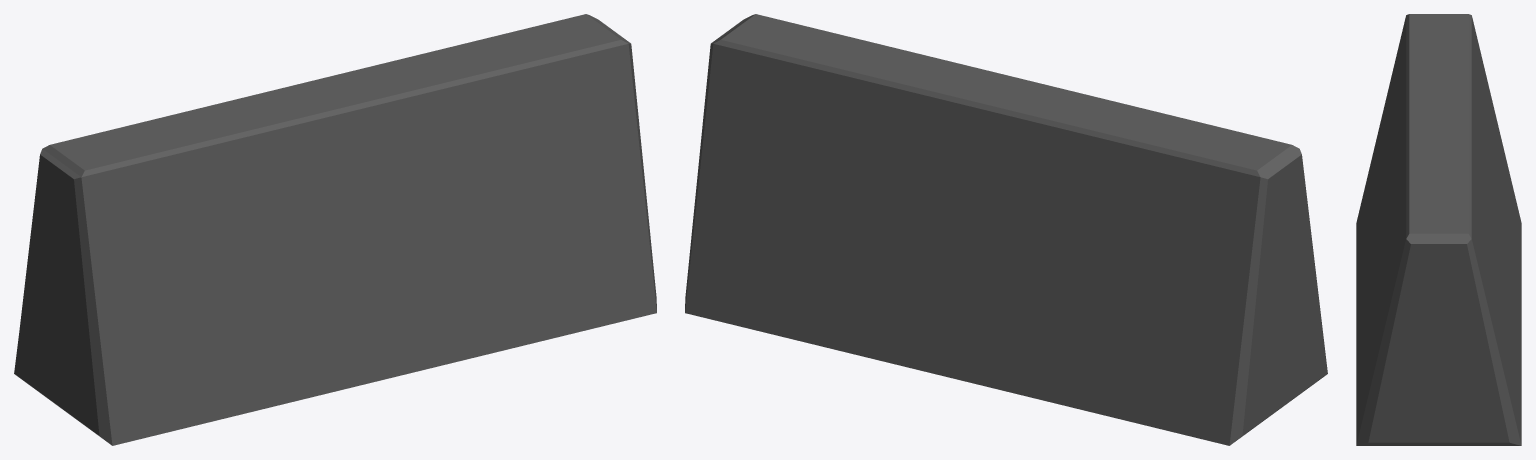
The model's file is CONCRETE.001_Material.054.glb.
3 renders of one model, left to right at view 1: azimuth 30°, elevation 25°; view 2: azimuth 150°, elevation 25°; view 3: azimuth 270°, elevation 25°, orthographic. The views are drawn at different scales.
Parts seen in each view (by area): view 1: CONCRETE.001_Material.054_0; view 2: CONCRETE.001_Material.054_0; view 3: CONCRETE.001_Material.054_0.
Boxes of the visible parts, x1,y1,x2,y2 form: CONCRETE.001_Material.054_0: (14,14,656,445); CONCRETE.001_Material.054_0: (685,14,1327,445); CONCRETE.001_Material.054_0: (1356,14,1521,445).
Bounding box in the file's own units: 0.852 × 0.3668 × 0.2606.
1 material, 1 textured.
